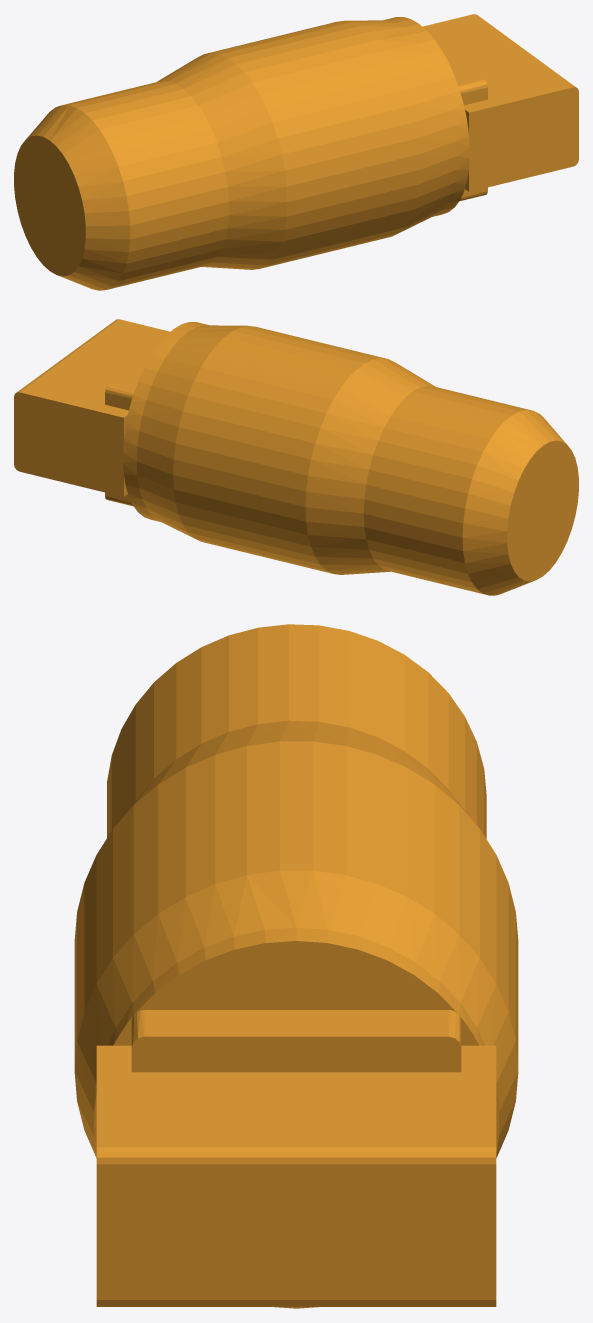
File: tail_link.dae
The picture shows the model from 3 angles, top to bottom: view 1: azimuth 30°, elevation 25°; view 2: azimuth 150°, elevation 25°; view 3: azimuth 270°, elevation 25°; orthographic projection. The views are drawn at different scales.
Visible parts, largest first — view 1: _0link_V1_TAIL; view 2: _0link_V1_TAIL; view 3: _0link_V1_TAIL.
Boxes of the visible parts, x1,y1,x2,y2 form: _0link_V1_TAIL: [14, 14, 578, 290]; _0link_V1_TAIL: [14, 319, 578, 595]; _0link_V1_TAIL: [74, 624, 518, 1308].
Size of the model in its own units: 0.1745 by 0.07 by 0.0698.
